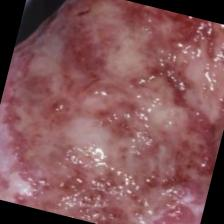wound-ulser: (0, 0, 224, 218)
